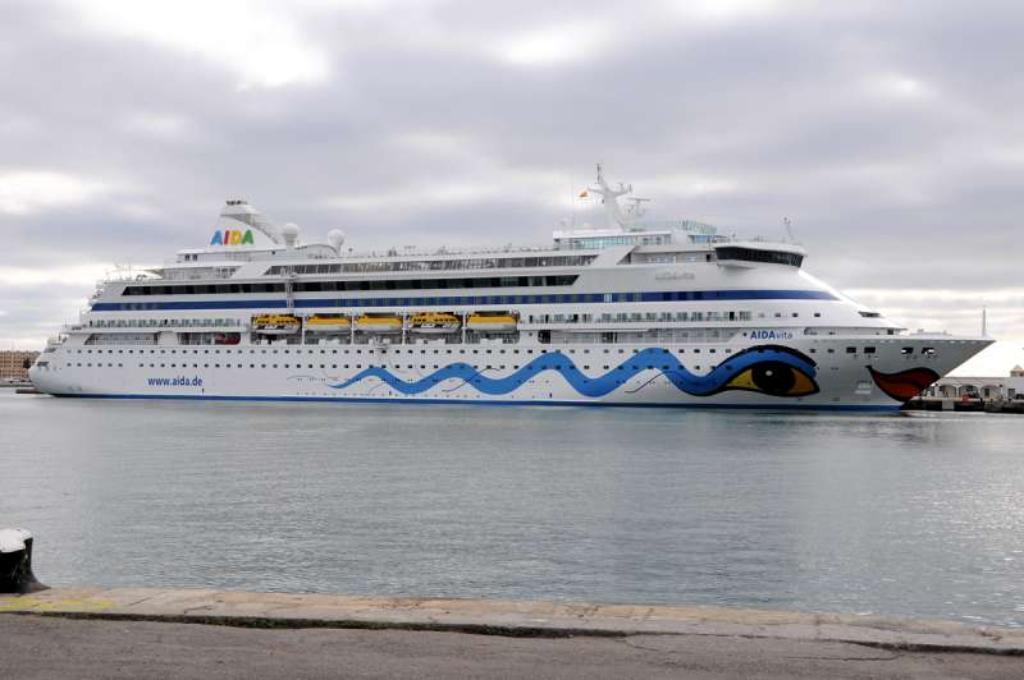PassengerShip: (18, 200, 1002, 412)
